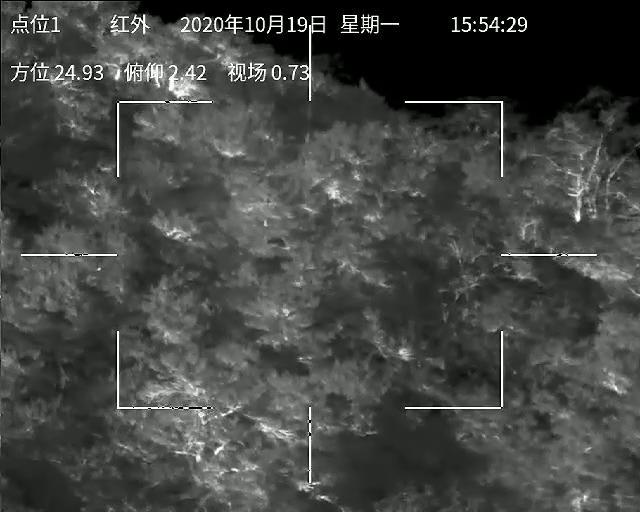uav: (291, 279, 307, 291)
